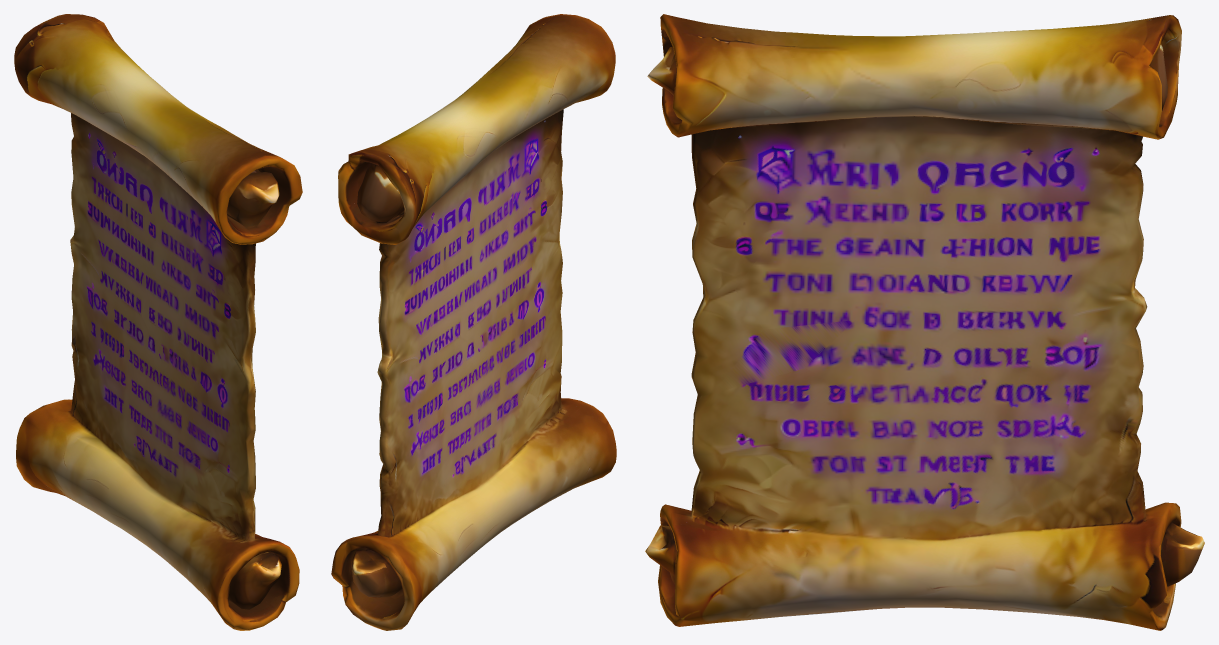
File: arcane+parchment+3d+model.obj
The picture shows the model from 3 angles, left to right: view 1: azimuth 30°, elevation 25°; view 2: azimuth 150°, elevation 25°; view 3: azimuth 270°, elevation 25°; orthographic projection. The views are drawn at different scales.
Parts seen in each view (by area): view 1: tripo_node_66133746-45d8-4c63-8047-102a344c2c75; view 2: tripo_node_66133746-45d8-4c63-8047-102a344c2c75; view 3: tripo_node_66133746-45d8-4c63-8047-102a344c2c75.
Boxes of the visible parts, left/top/right/bottom form: tripo_node_66133746-45d8-4c63-8047-102a344c2c75: left=14, top=14, right=302, bottom=630; tripo_node_66133746-45d8-4c63-8047-102a344c2c75: left=331, top=14, right=616, bottom=630; tripo_node_66133746-45d8-4c63-8047-102a344c2c75: left=645, top=14, right=1204, bottom=630.
Size of the model in its own units: 0.1975 by 1 by 0.8426.
Materials: 1 (1 with a texture image).
